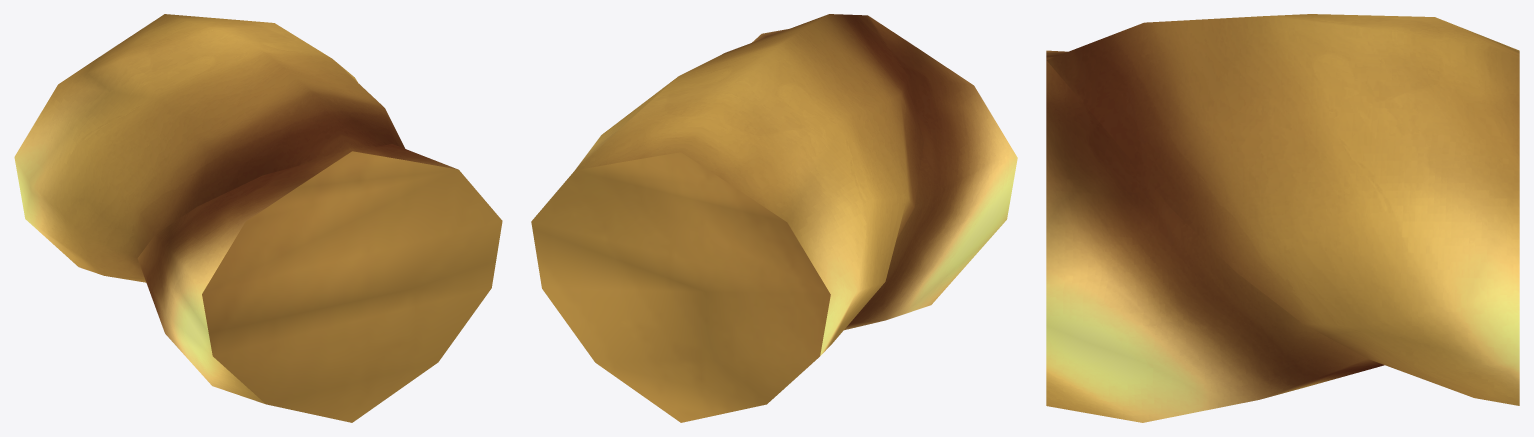
File: Rope_Segment.glb
3 renders of one model, left to right at view 1: azimuth 30°, elevation 25°; view 2: azimuth 150°, elevation 25°; view 3: azimuth 270°, elevation 25°, orthographic. The views are drawn at different scales.
Parts seen in each view (by area): view 1: Rope_Segment; view 2: Rope_Segment; view 3: Rope_Segment.
Part boxes in pixels (bbox=[...]): Rope_Segment: bbox=[14, 14, 502, 422]; Rope_Segment: bbox=[531, 14, 1017, 422]; Rope_Segment: bbox=[1046, 14, 1519, 422].
Bounding box in the file's own units: 0.2068 × 0.2008 × 0.2181.
1 material, 1 textured.
